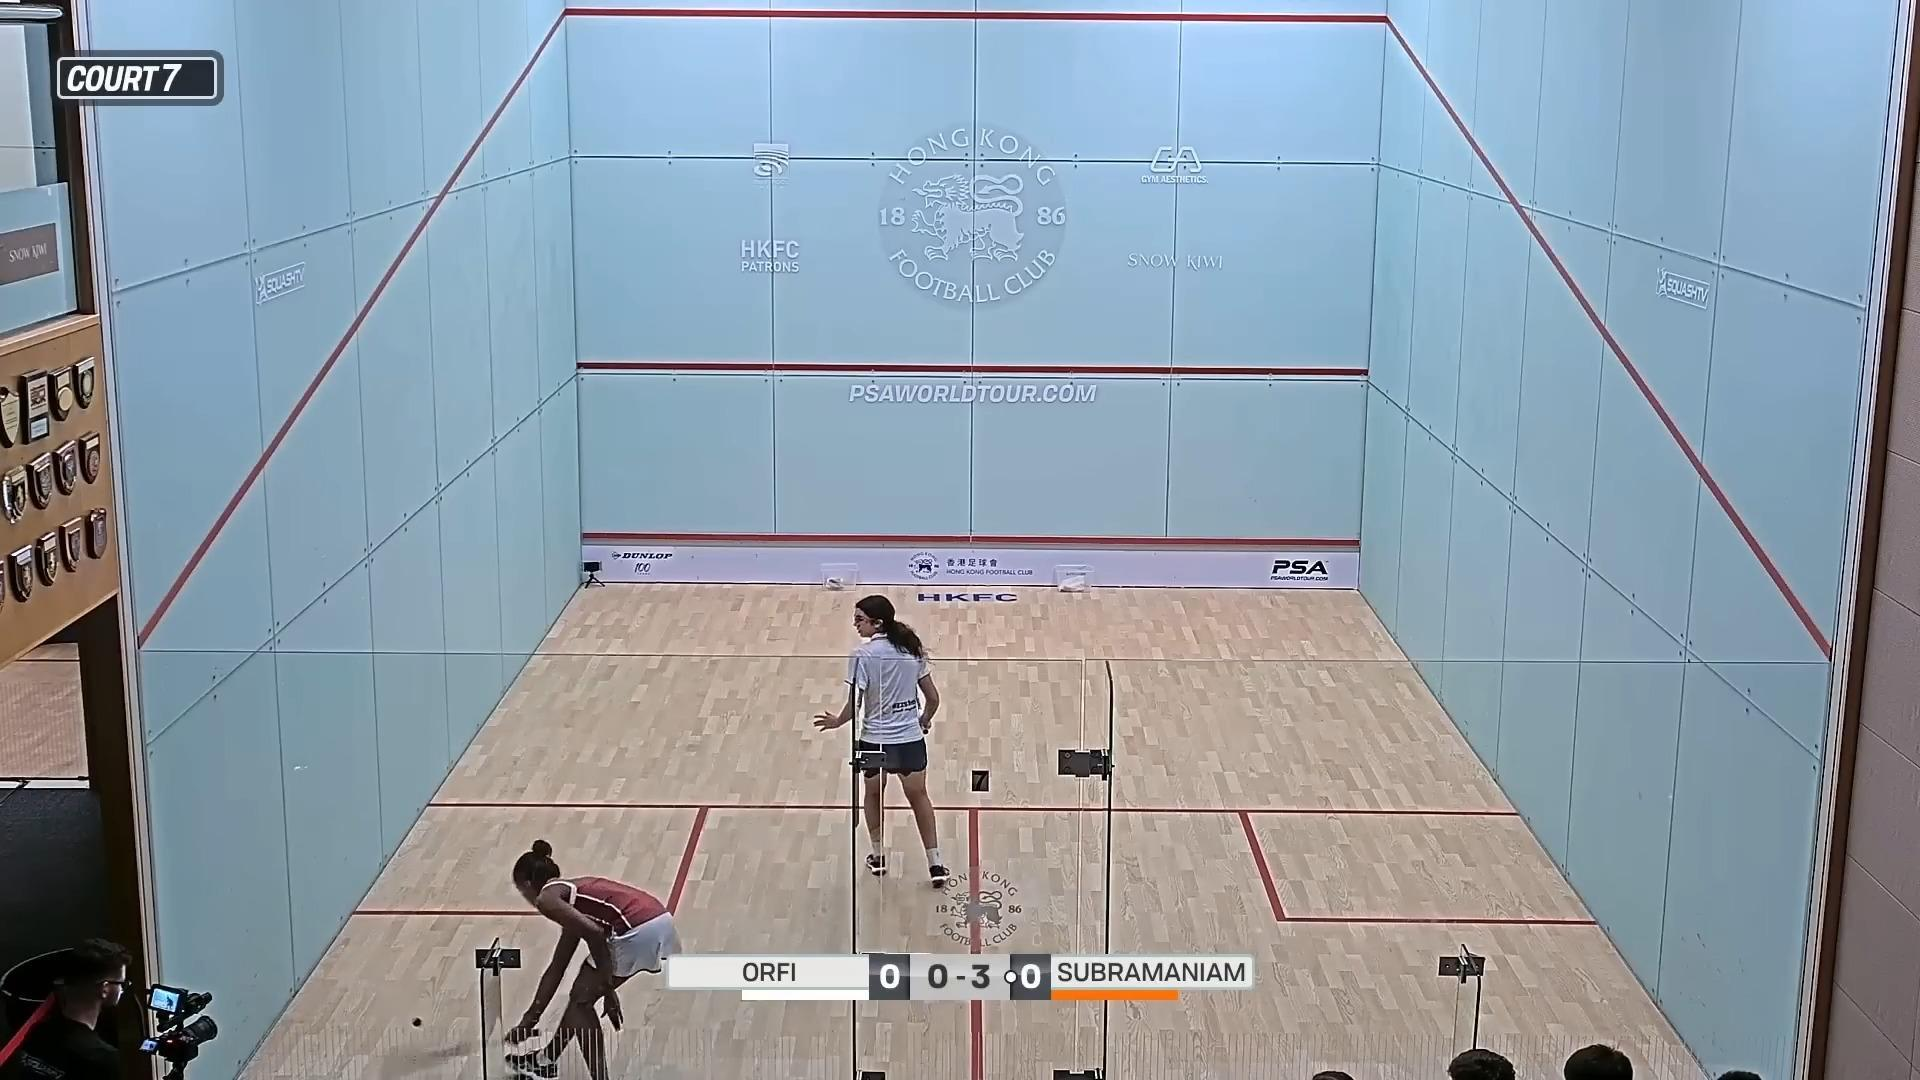Squash-Ball: (404, 1006, 429, 1036)
